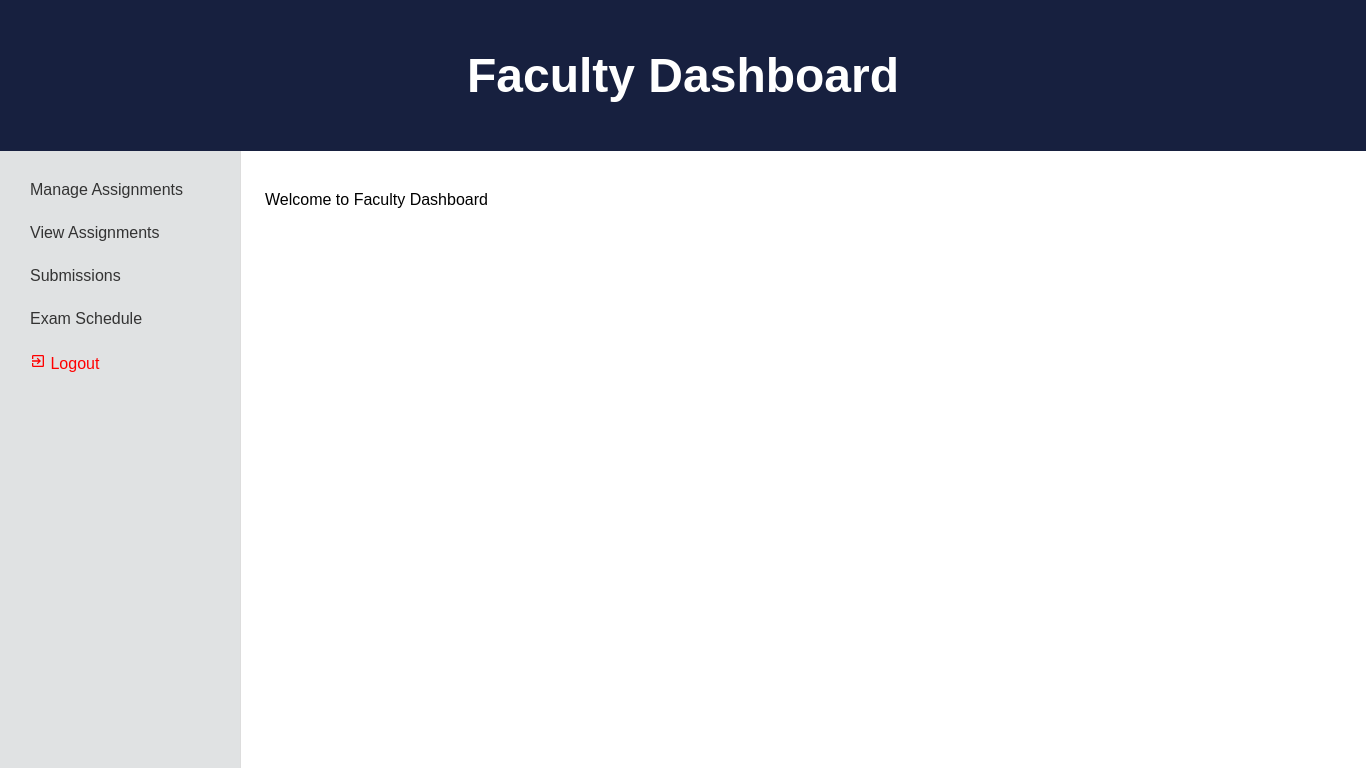
Test: shows create assignment form when "Manage Assignments" tab is clicked
Click the list item "Manage Assignments" at (106, 190), box [30, 181, 183, 198]
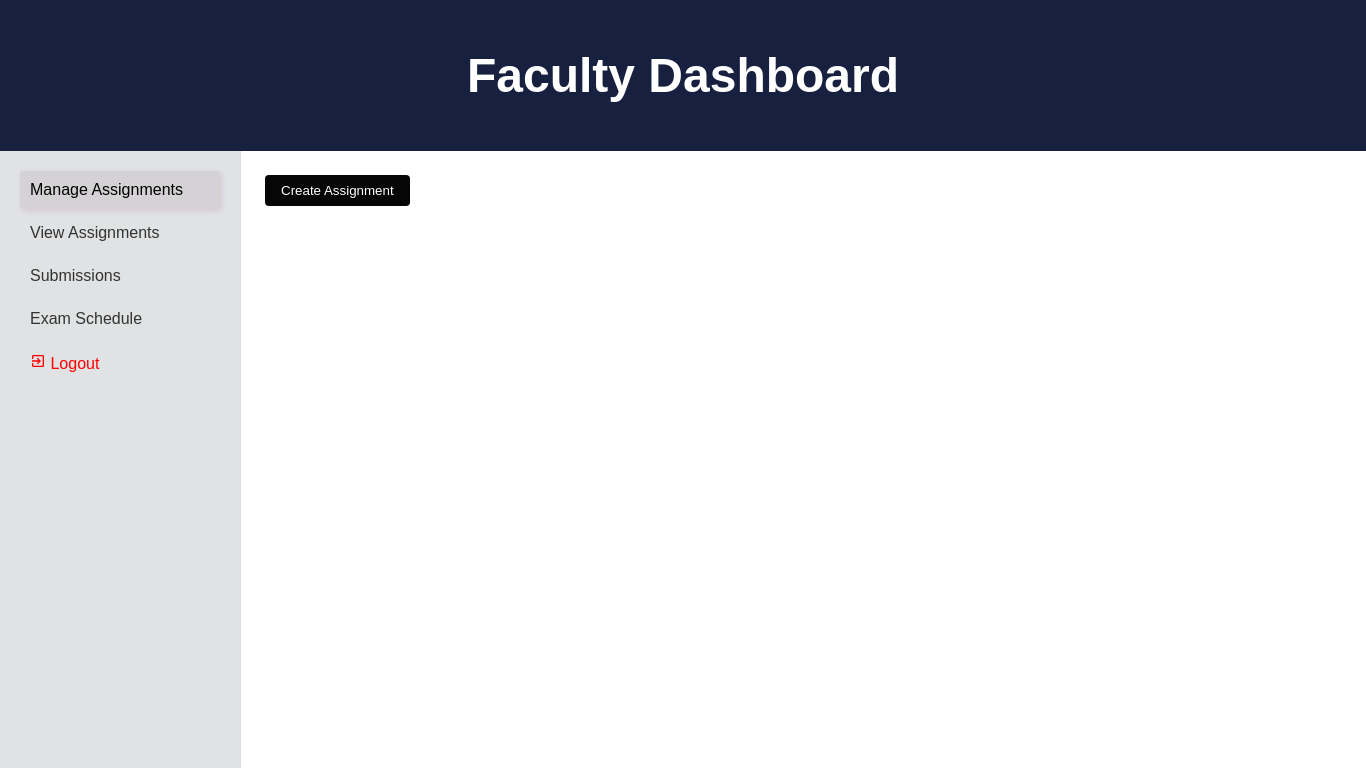
Now the button "Create Assignment" is shown, box [265, 175, 410, 206]
